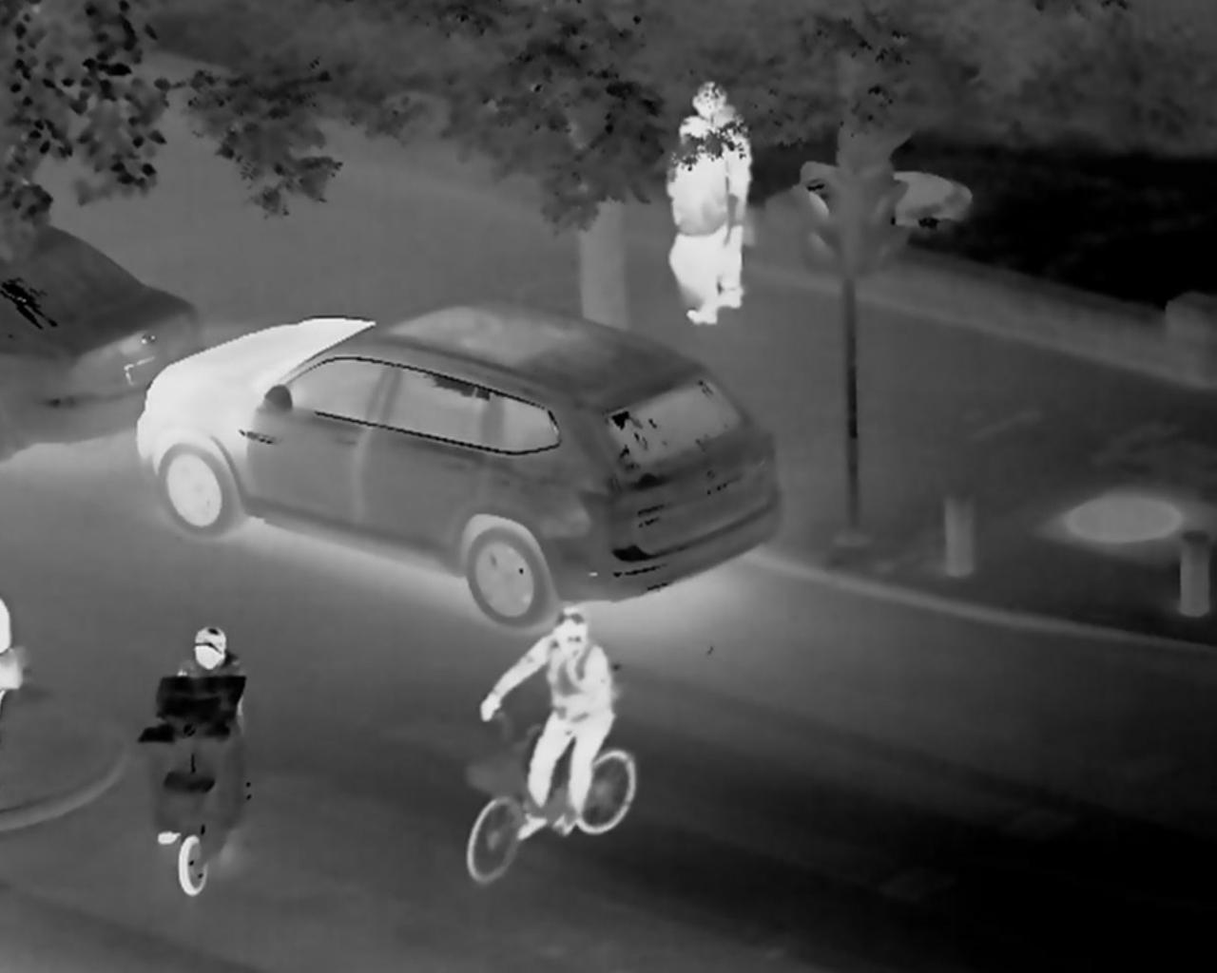person: (500, 607, 622, 839), (709, 84, 756, 320), (667, 122, 723, 318), (168, 606, 246, 678)
